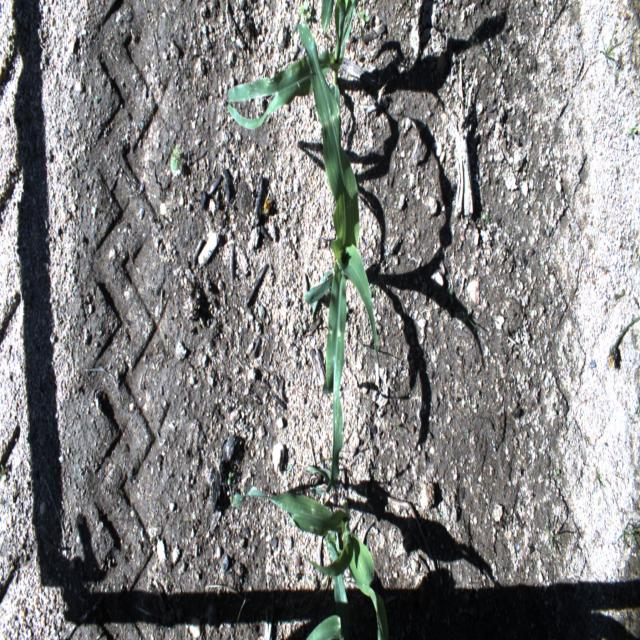crop: (292, 21, 380, 495), (231, 485, 389, 639), (226, 1, 360, 158), (305, 522, 355, 638), (170, 144, 182, 174)
weed: (608, 315, 640, 368), (599, 18, 624, 68), (312, 560, 335, 597), (622, 520, 640, 561), (544, 520, 564, 556), (468, 15, 484, 58), (326, 530, 346, 554), (297, 0, 311, 18), (593, 466, 603, 491), (614, 286, 626, 302), (360, 7, 370, 26), (346, 30, 354, 52), (0, 463, 7, 486), (627, 124, 637, 140), (466, 315, 476, 329), (226, 468, 233, 487), (448, 288, 454, 304), (371, 281, 377, 296), (481, 213, 489, 223), (551, 402, 557, 415), (465, 427, 470, 440), (554, 468, 560, 478), (476, 389, 479, 399)
